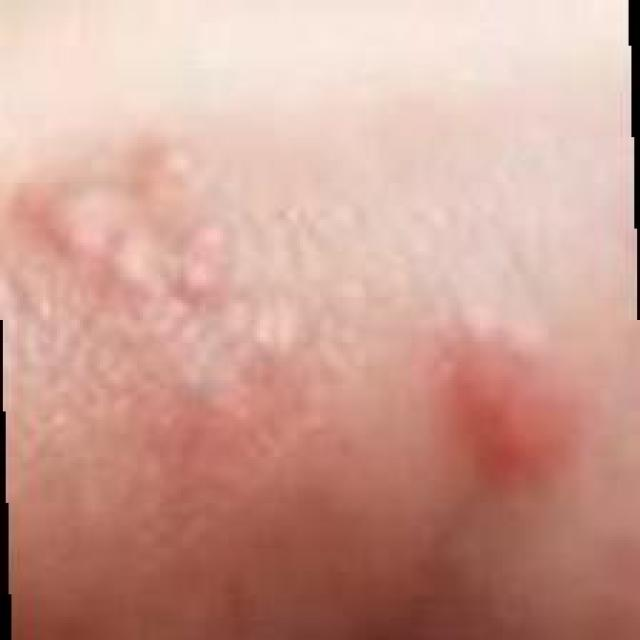monkeypox: (53, 80, 622, 609)
